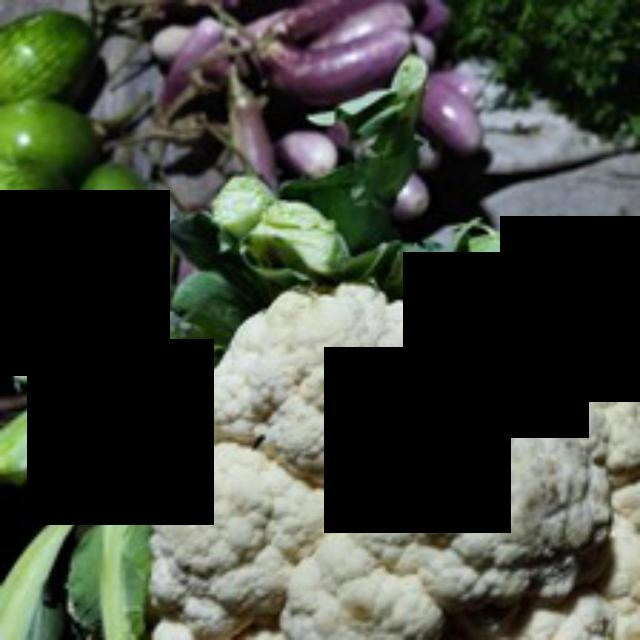cauliflower: (151, 283, 620, 637)
